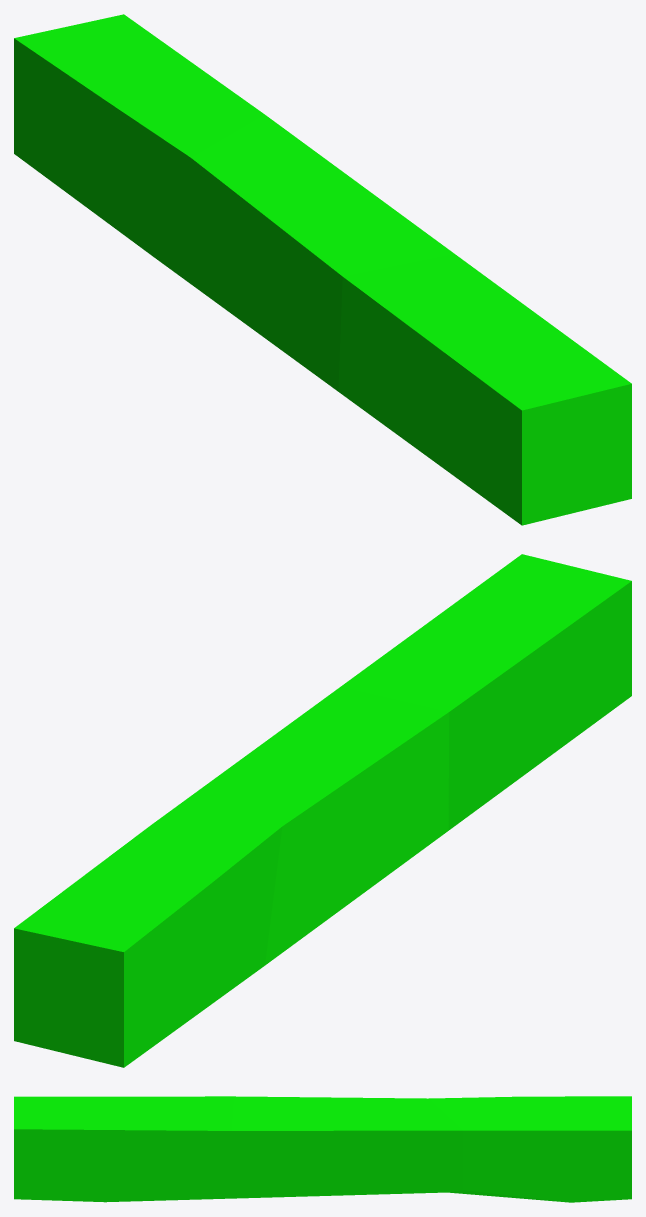
Rendered from SM_Wall_Beam_Horizontal_Mid_Out_A_2m.fbx.
3 views of the same model, one above another, from view 1: azimuth 30°, elevation 25°; view 2: azimuth 150°, elevation 25°; view 3: azimuth 270°, elevation 25° (orthographic). The views are drawn at different scales.
Parts seen in each view (by area): view 1: wall-beam-horizontal-mid-out-a-2m; view 2: wall-beam-horizontal-mid-out-a-2m; view 3: wall-beam-horizontal-mid-out-a-2m.
Boxes of the visible parts, <box> form: wall-beam-horizontal-mid-out-a-2m: <box>14,14,631,525</box>; wall-beam-horizontal-mid-out-a-2m: <box>14,554,631,1067</box>; wall-beam-horizontal-mid-out-a-2m: <box>14,1096,631,1202</box>.
Bounding box in the file's own units: 0.2549 × 0.2641 × 2.
